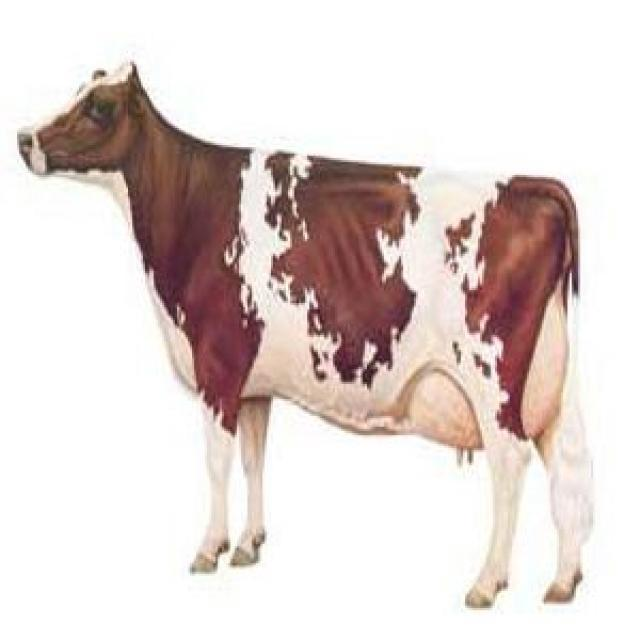cow: (20, 64, 590, 608)
